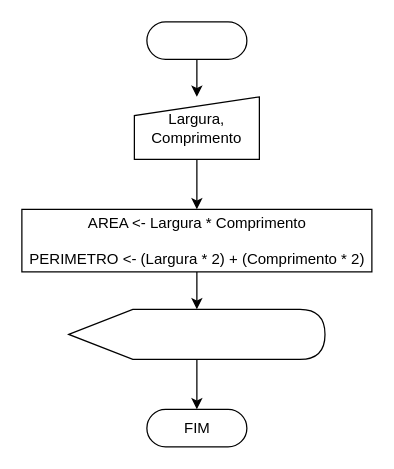
The diagram is 394 pixels wide and 469 high, and some of its shapes have lost their labels. The shapes that lost their labels are listed below. From the top down, each one's centre as x and y in pixels, then its label:
(196,40): INICIO
(196,333): "Área: ", AREA "Perímetro: ", PERIMETRO
